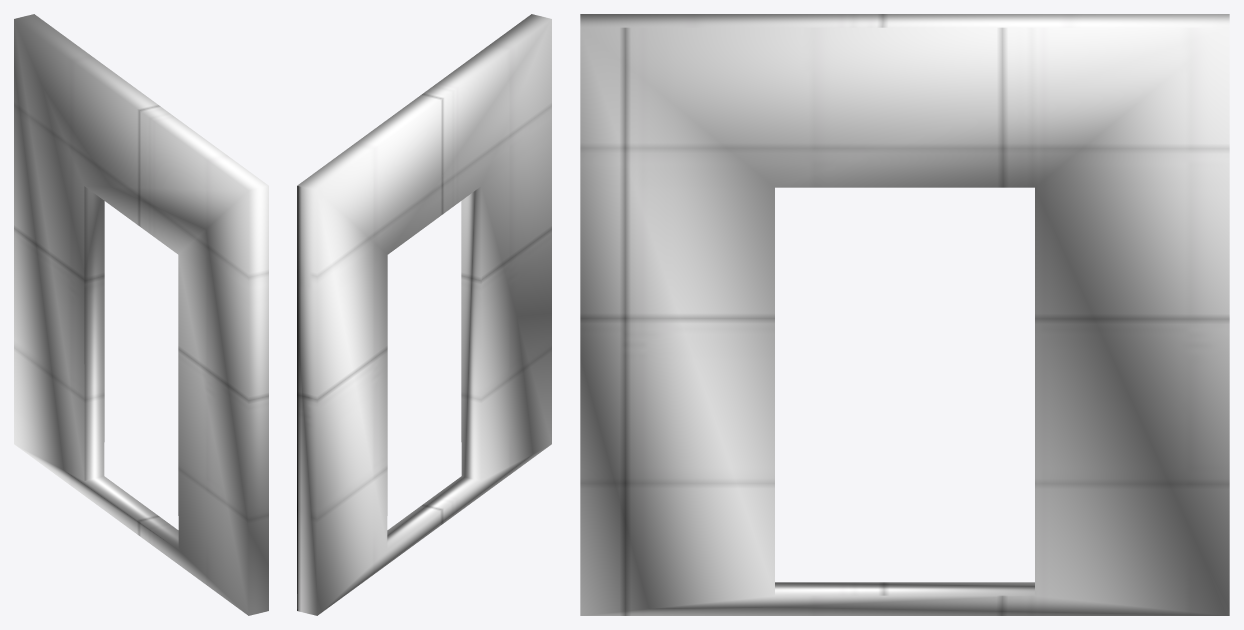
The model's file is wall.doorway.glb.
3 views of the same model, side by side, from view 1: azimuth 30°, elevation 25°; view 2: azimuth 150°, elevation 25°; view 3: azimuth 270°, elevation 25° (orthographic). The views are drawn at different scales.
Visible parts, largest first — view 1: wall.doorway; view 2: wall.doorway; view 3: wall.doorway.
Boxes of the visible parts, x1=… form: wall.doorway: x1=14, y1=14, x2=268, y2=615; wall.doorway: x1=297, y1=14, x2=551, y2=615; wall.doorway: x1=580, y1=14, x2=1229, y2=615.
Size of the model in its own units: 0.1496 by 3 by 3.
Materials: 1 (1 with a texture image).
